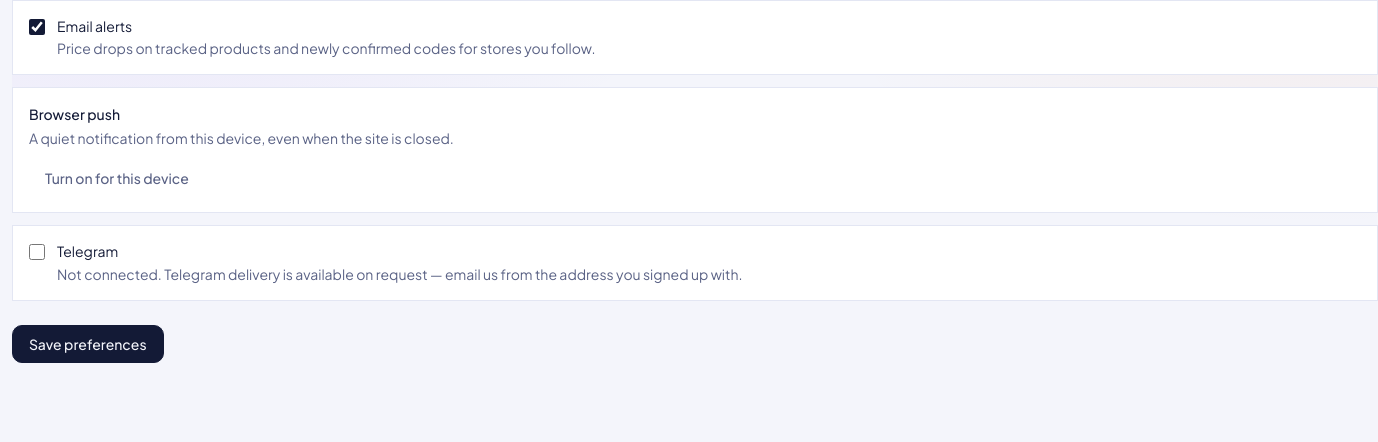
it: NotificationSettings › turning push on › stays off when the server rejects the subscription
Step 1. Click the button "Turn on for this device" → (117, 178), box [29,160,205,196]
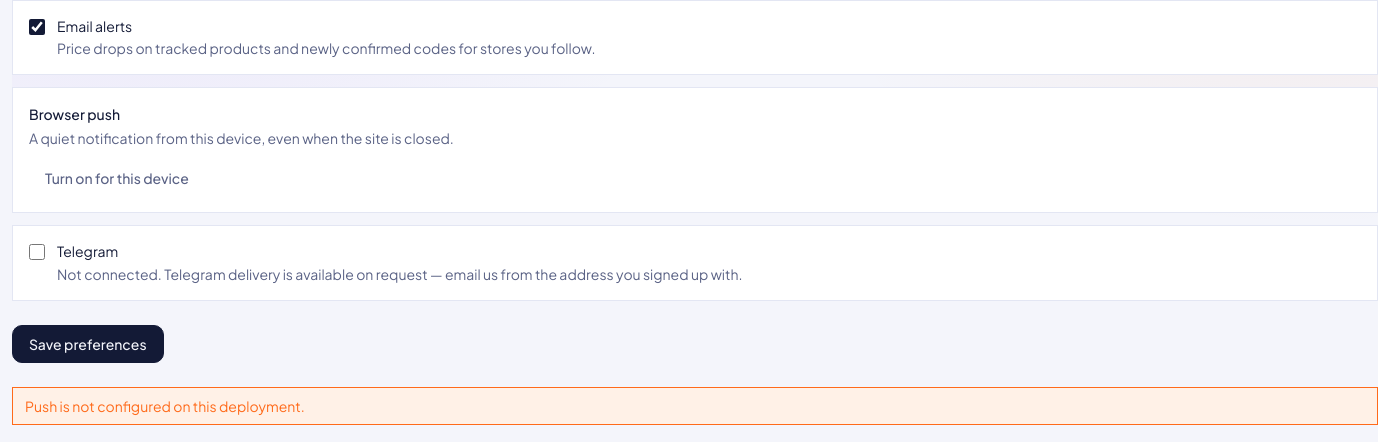
Now the message shows "not configured", box [25,396,305,414]
